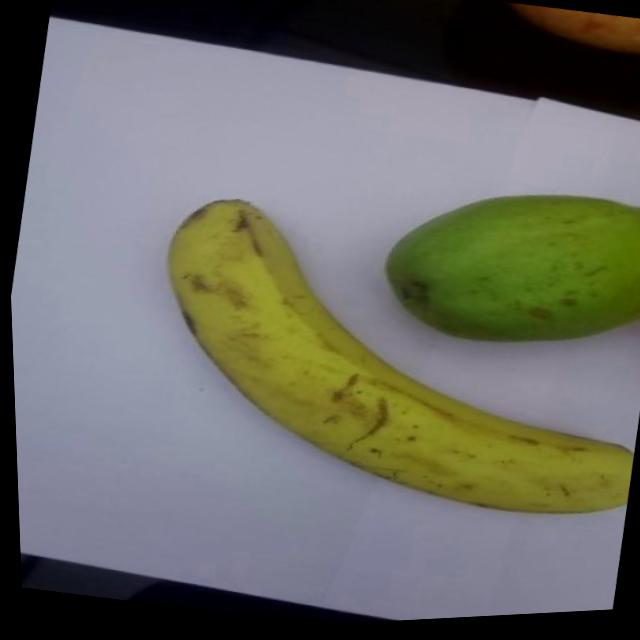Apple: (492, 0, 640, 74)
Banana: (125, 168, 640, 548)
